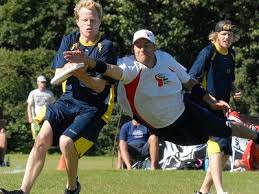disc: (51, 64, 86, 79)
